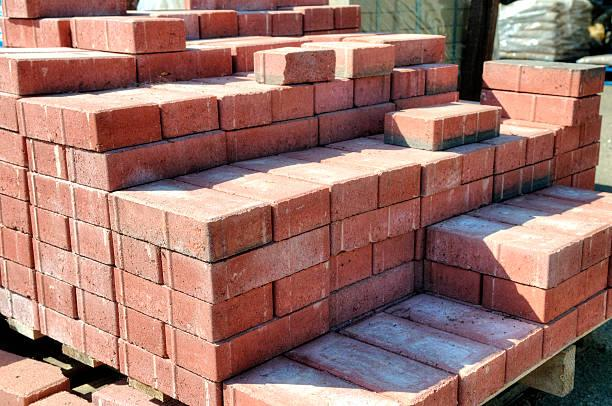Bricks: (337, 316, 509, 405), (390, 289, 546, 381), (163, 304, 330, 387), (110, 175, 269, 260), (294, 329, 455, 405), (163, 229, 329, 300), (417, 219, 581, 290), (179, 164, 328, 242), (114, 270, 276, 340), (223, 353, 415, 405), (62, 128, 232, 185), (239, 149, 379, 218), (477, 203, 611, 268), (16, 86, 150, 151), (482, 260, 611, 321), (297, 142, 419, 204), (339, 136, 463, 197), (327, 263, 416, 333), (387, 99, 504, 147), (124, 346, 219, 405), (326, 198, 420, 254), (477, 63, 608, 101), (27, 172, 113, 227), (30, 241, 113, 297), (228, 111, 320, 161), (42, 308, 114, 371), (72, 19, 187, 57), (483, 92, 602, 125), (275, 258, 334, 315), (422, 177, 491, 225), (491, 158, 561, 205), (137, 48, 231, 79), (116, 305, 164, 361), (551, 134, 602, 182), (335, 241, 379, 296), (363, 230, 412, 274), (96, 111, 162, 143), (3, 17, 67, 48), (507, 124, 559, 161), (430, 267, 483, 303), (540, 310, 577, 361), (114, 240, 158, 282), (35, 276, 76, 319), (31, 207, 72, 249), (73, 220, 110, 264), (282, 52, 338, 81), (575, 289, 608, 338), (168, 99, 215, 132), (24, 142, 64, 178), (224, 98, 272, 124), (0, 226, 31, 266), (0, 258, 34, 294), (81, 294, 113, 332), (350, 49, 392, 77), (275, 85, 314, 114), (0, 160, 29, 198), (495, 137, 525, 173), (200, 11, 237, 37), (463, 144, 491, 175), (238, 9, 270, 36), (0, 89, 20, 132), (317, 84, 353, 107), (359, 79, 393, 103), (0, 134, 25, 166), (270, 13, 303, 37), (0, 195, 23, 228), (303, 5, 331, 32), (428, 70, 458, 94), (576, 120, 602, 145), (556, 124, 580, 150), (331, 4, 358, 27), (396, 73, 421, 95)
